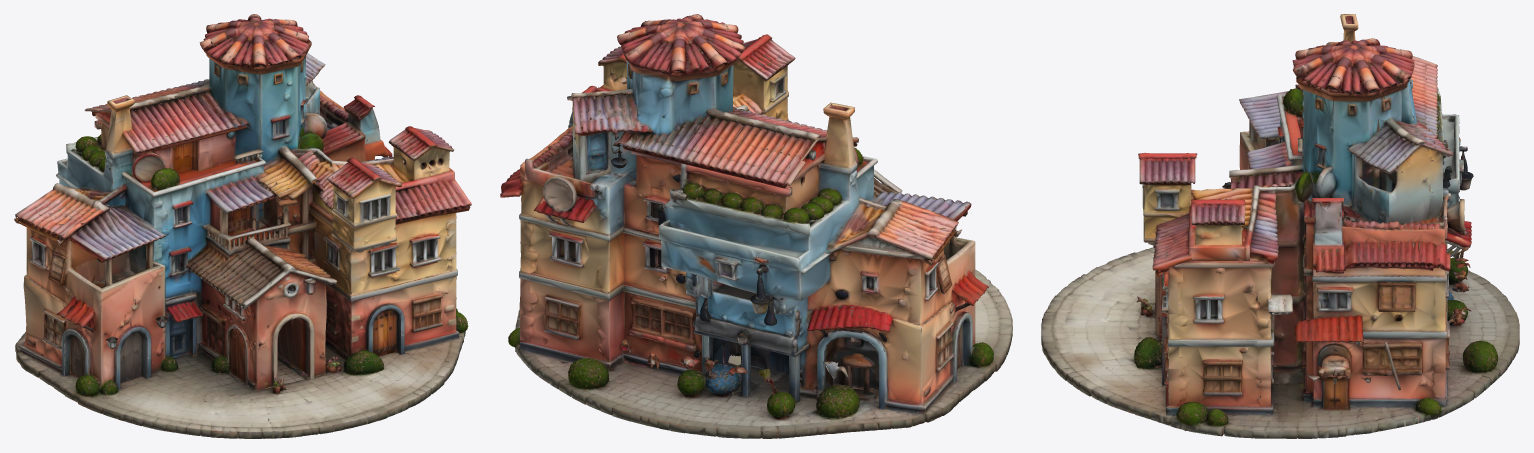
The model's file is Colorful_Courtyard_Vi.glb.
3 renders of one model, left to right at view 1: azimuth 30°, elevation 25°; view 2: azimuth 150°, elevation 25°; view 3: azimuth 270°, elevation 25°, orthographic. The views are drawn at different scales.
Parts seen in each view (by area): view 1: Colorful_Courtyard_Vi; view 2: Colorful_Courtyard_Vi; view 3: Colorful_Courtyard_Vi.
Boxes of the visible parts, x1,y1,x2,y2 form: Colorful_Courtyard_Vi: (14,14,471,438); Colorful_Courtyard_Vi: (500,14,1012,438); Colorful_Courtyard_Vi: (1041,14,1519,438).
Bounding box in the file's own units: 2 × 1.45 × 2.
Materials: 1 (1 with a texture image).
